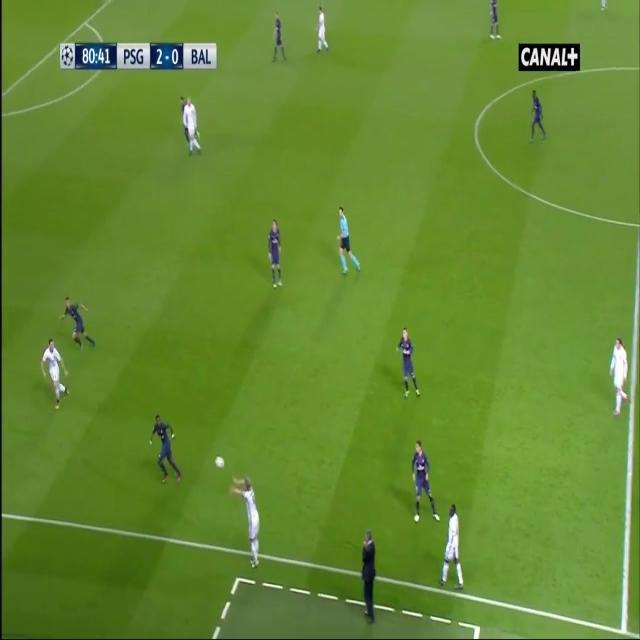Ball: (215, 453, 227, 472)
Player: (228, 475, 262, 573), (409, 436, 442, 524), (146, 412, 184, 486), (438, 501, 466, 593), (40, 335, 69, 412), (59, 296, 98, 351), (393, 326, 421, 400), (608, 334, 632, 420), (182, 97, 204, 158), (526, 87, 549, 145), (266, 218, 284, 292), (269, 12, 288, 66), (315, 5, 330, 56), (488, 0, 501, 42)
Referee: (334, 203, 366, 276)
